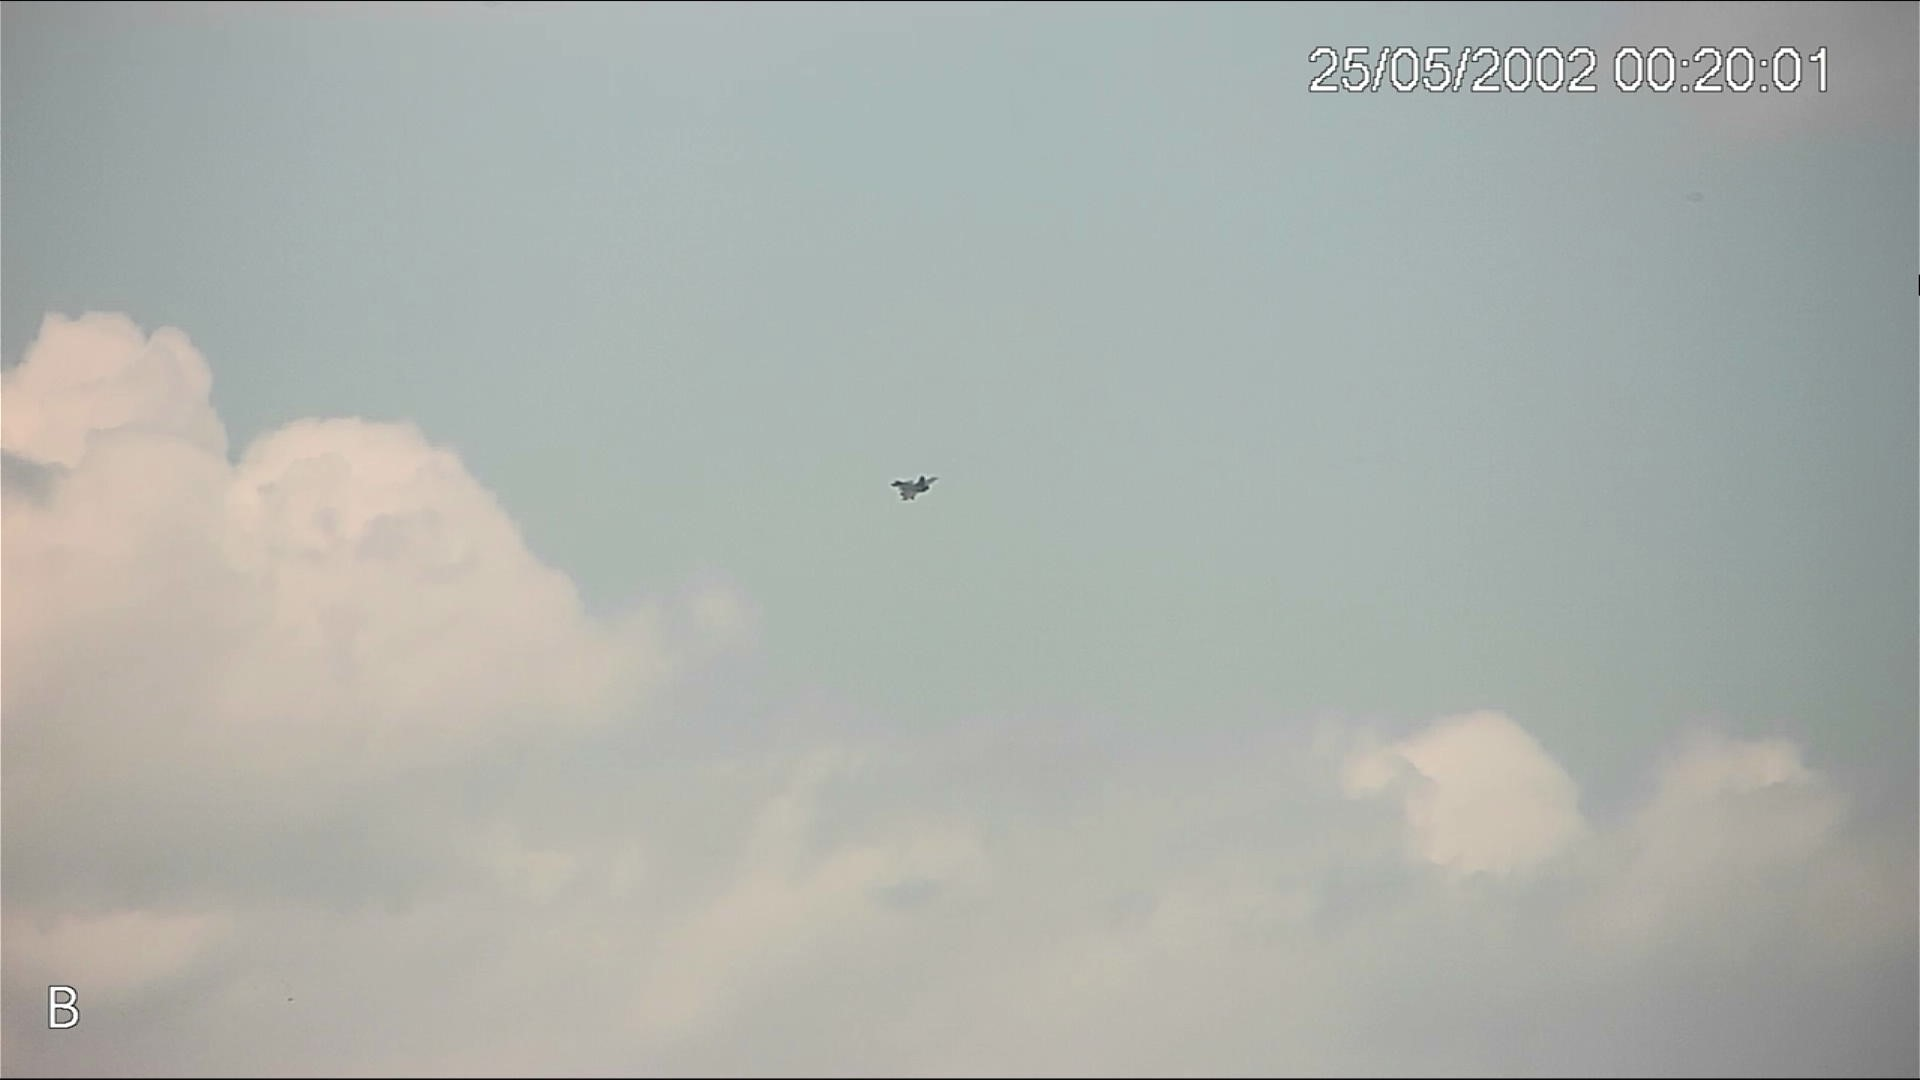SU_30: (890, 473, 942, 505)
